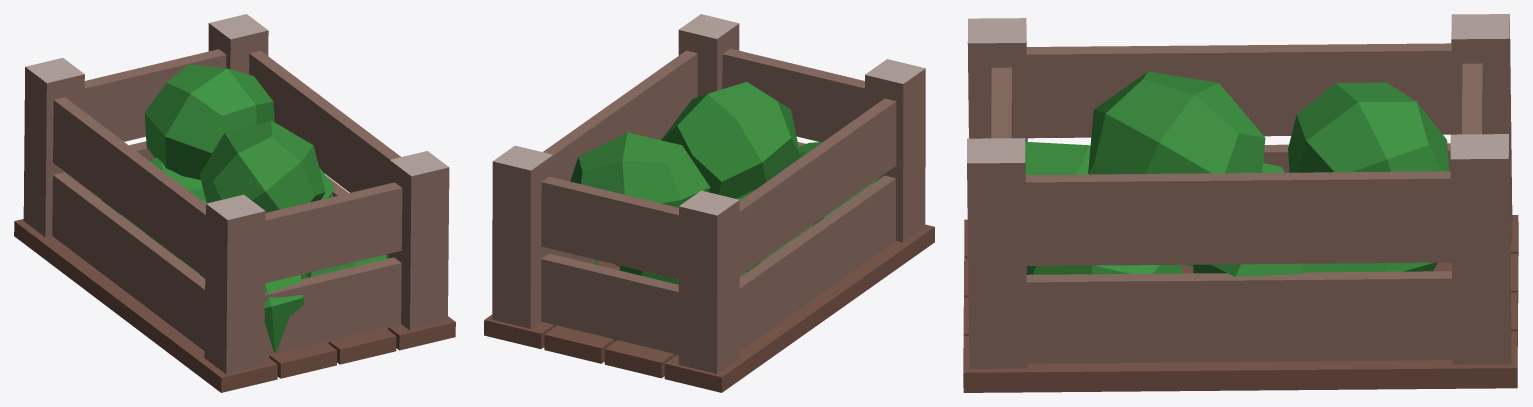
Rendered from prop_049.fbx.
3 renders of one model, left to right at view 1: azimuth 30°, elevation 25°; view 2: azimuth 150°, elevation 25°; view 3: azimuth 270°, elevation 25°, orthographic. The views are drawn at different scales.
Visible parts, largest first — view 1: prop.049; view 2: prop.049; view 3: prop.049.
Boxes of the visible parts, x1=… form: prop.049: x1=14, y1=14, x2=455, y2=392; prop.049: x1=484, y1=14, x2=934, y2=392; prop.049: x1=963, y1=14, x2=1518, y2=392.
Size of the model in its own units: 120 by 95.73 by 185.
1 material, 1 textured.
